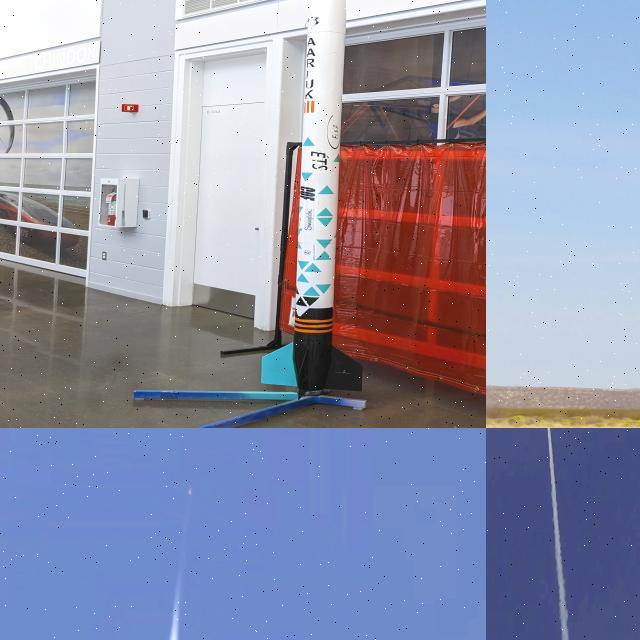Rocket: (261, 0, 362, 401), (189, 486, 191, 495)
